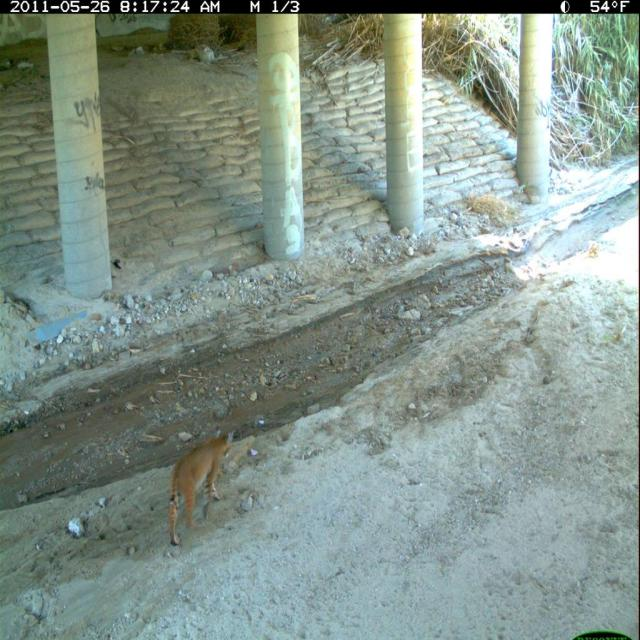bobcat: (165, 419, 239, 552)
